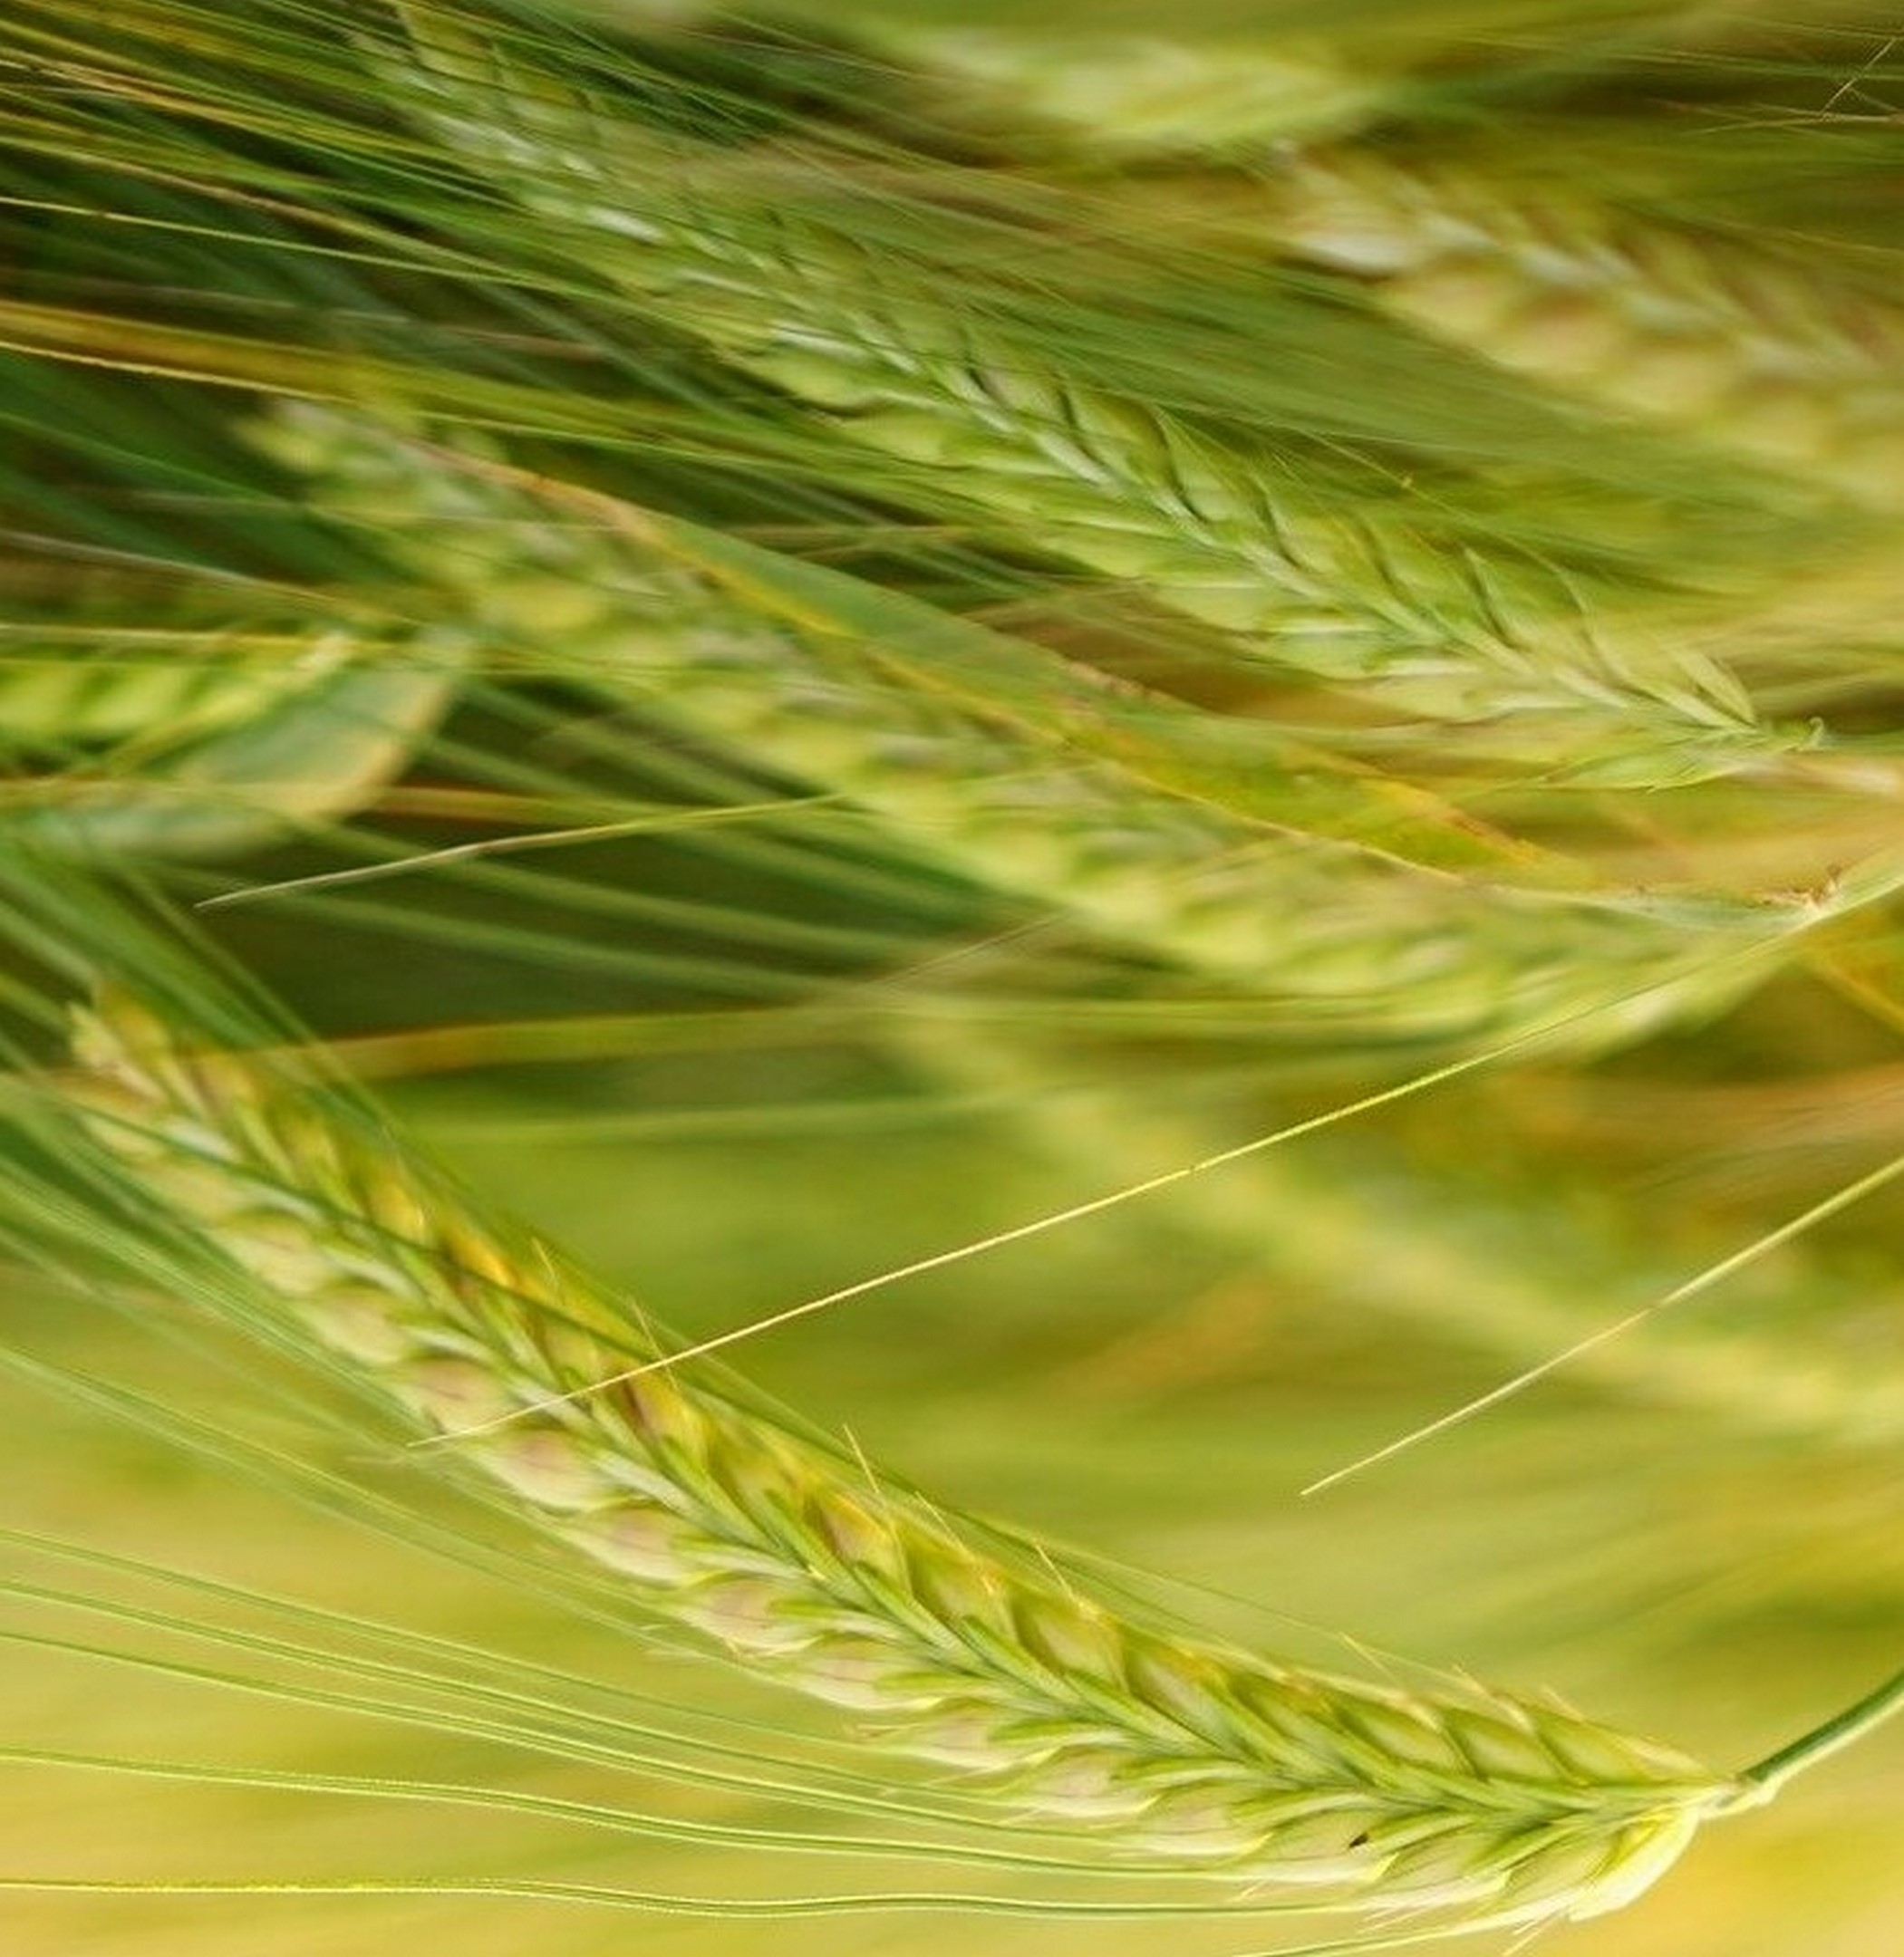Healthy Wheat: (79, 966, 1682, 1943)
